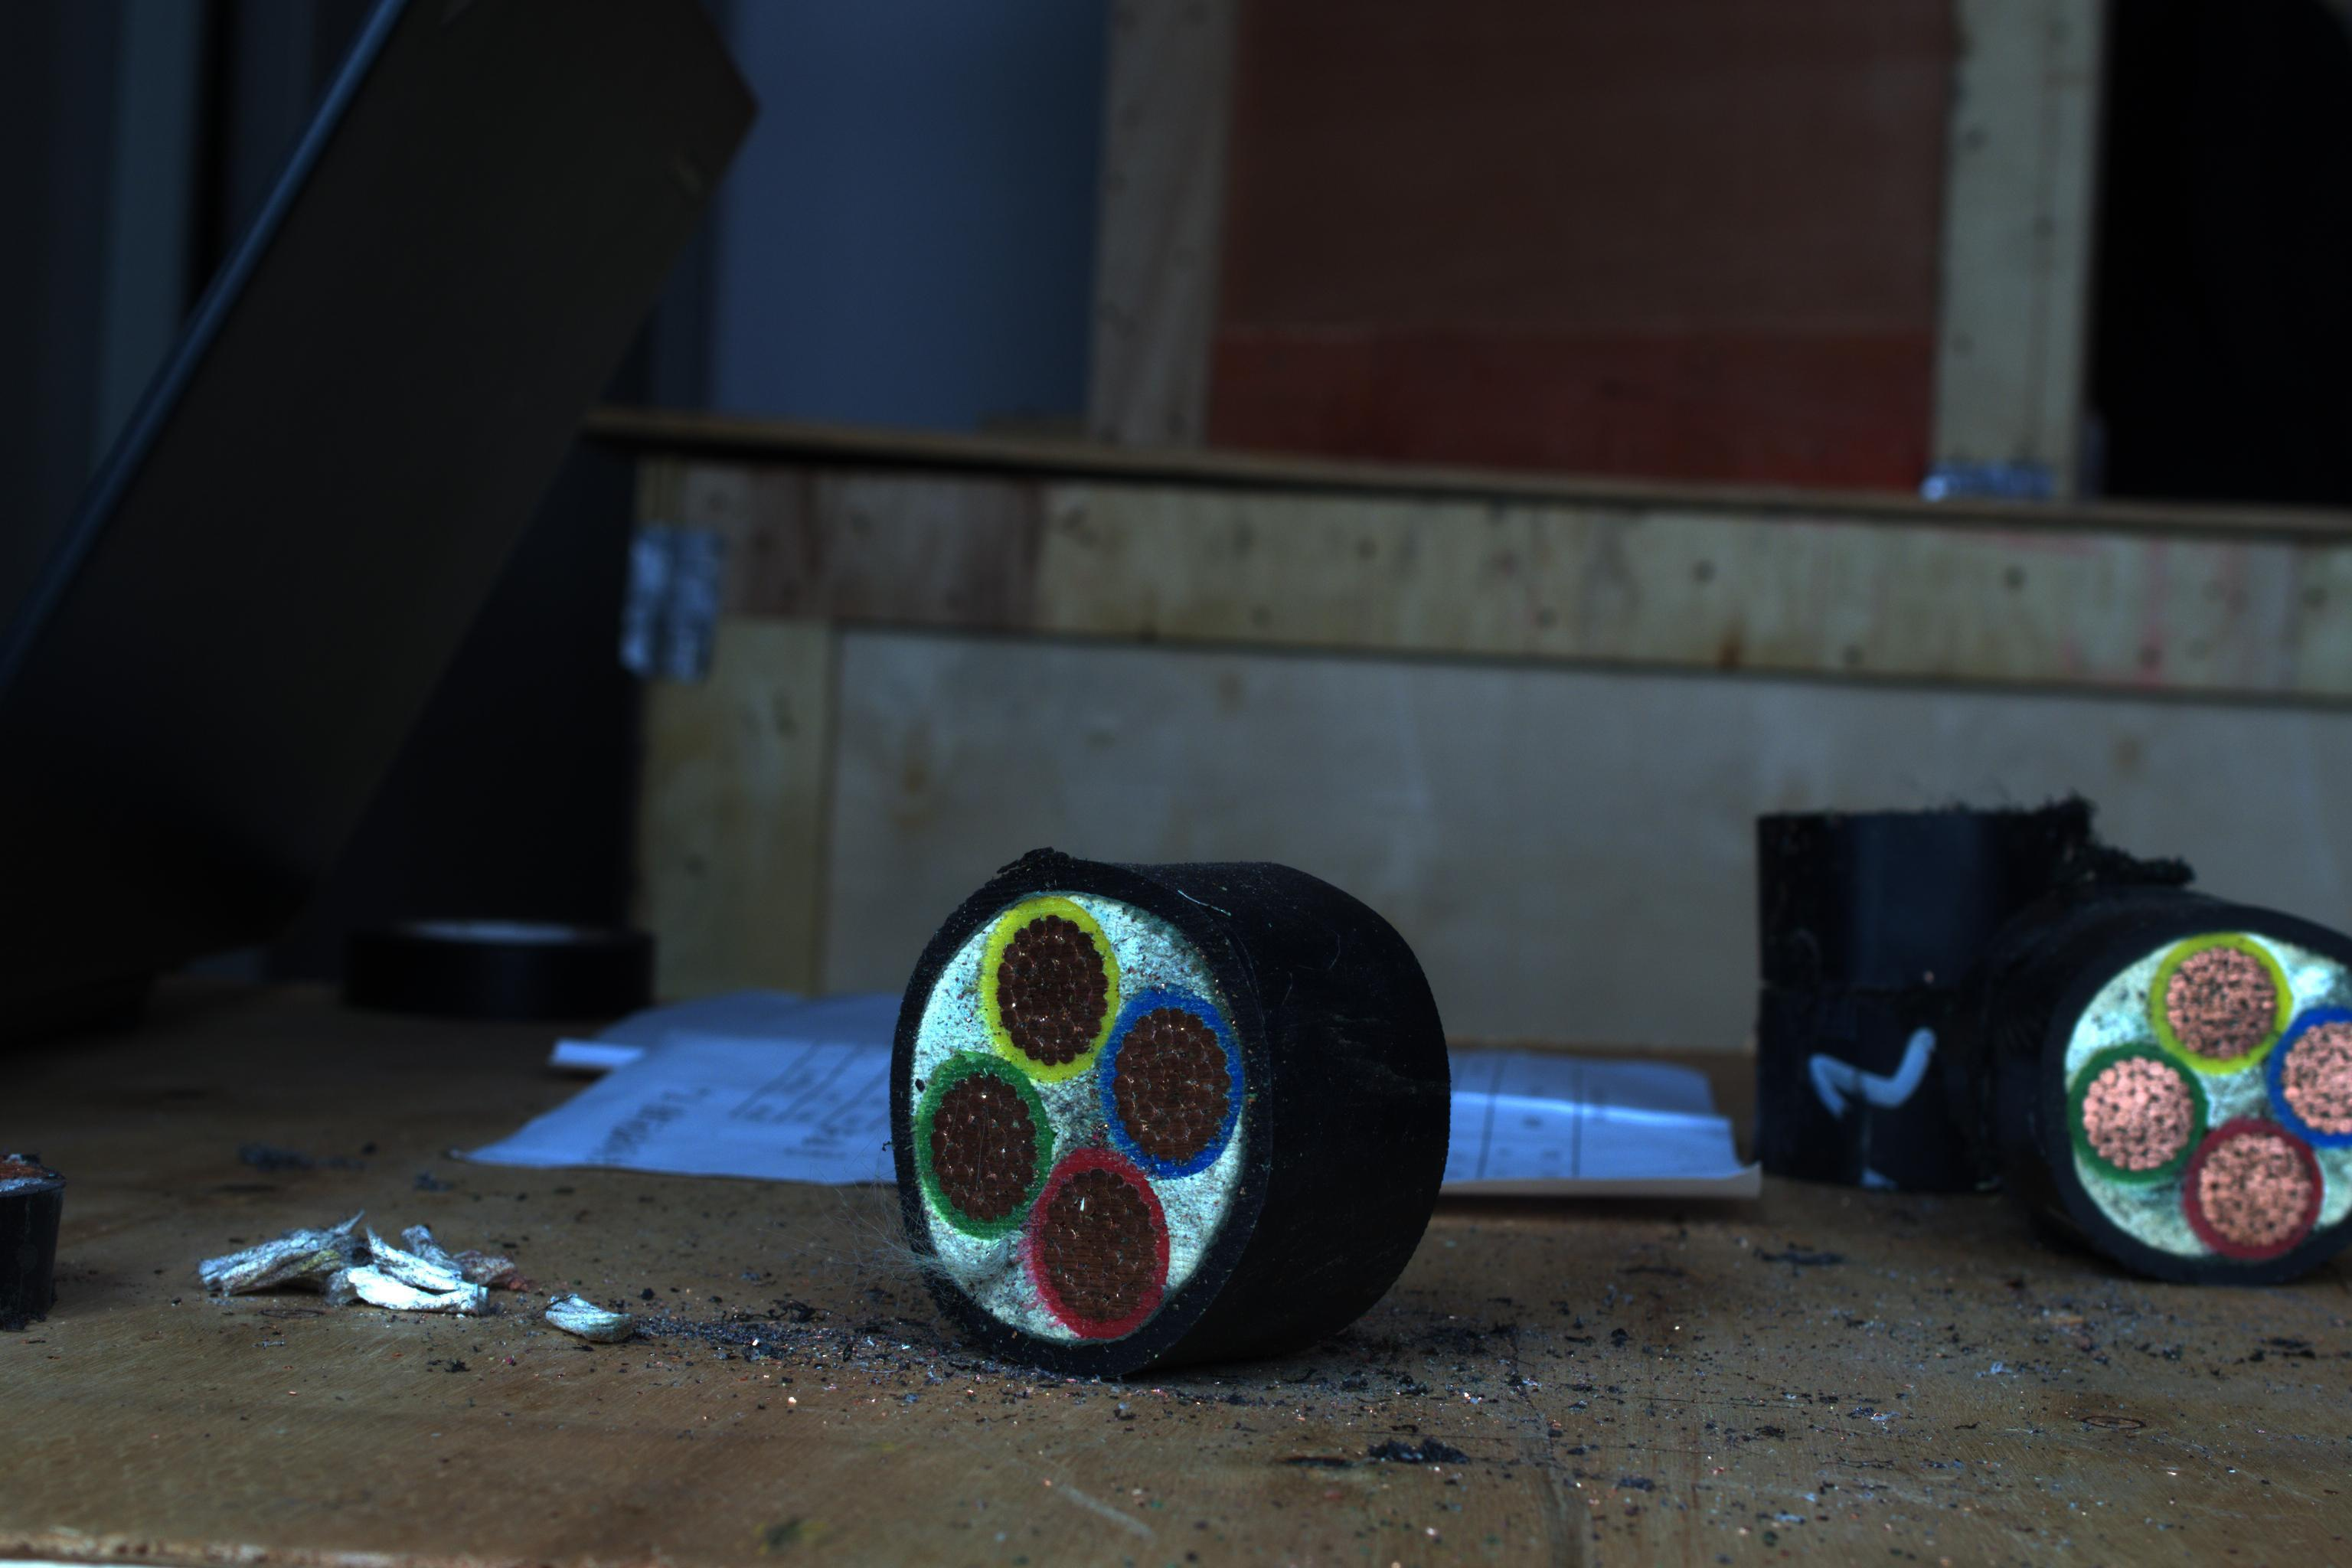YJV_0.6_1kV_4x185: (866, 847, 1277, 1372)
